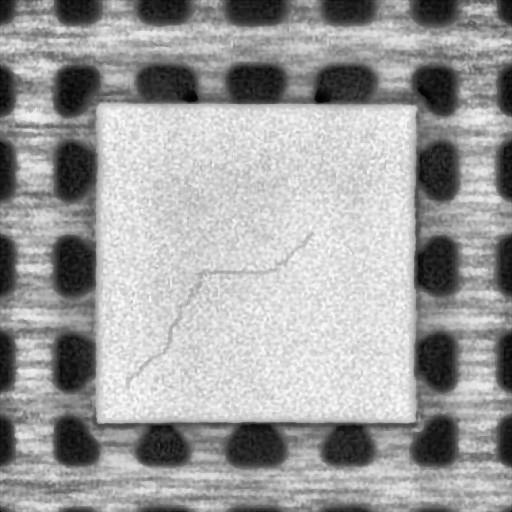DIE_CRACK: (125, 230, 314, 393)
